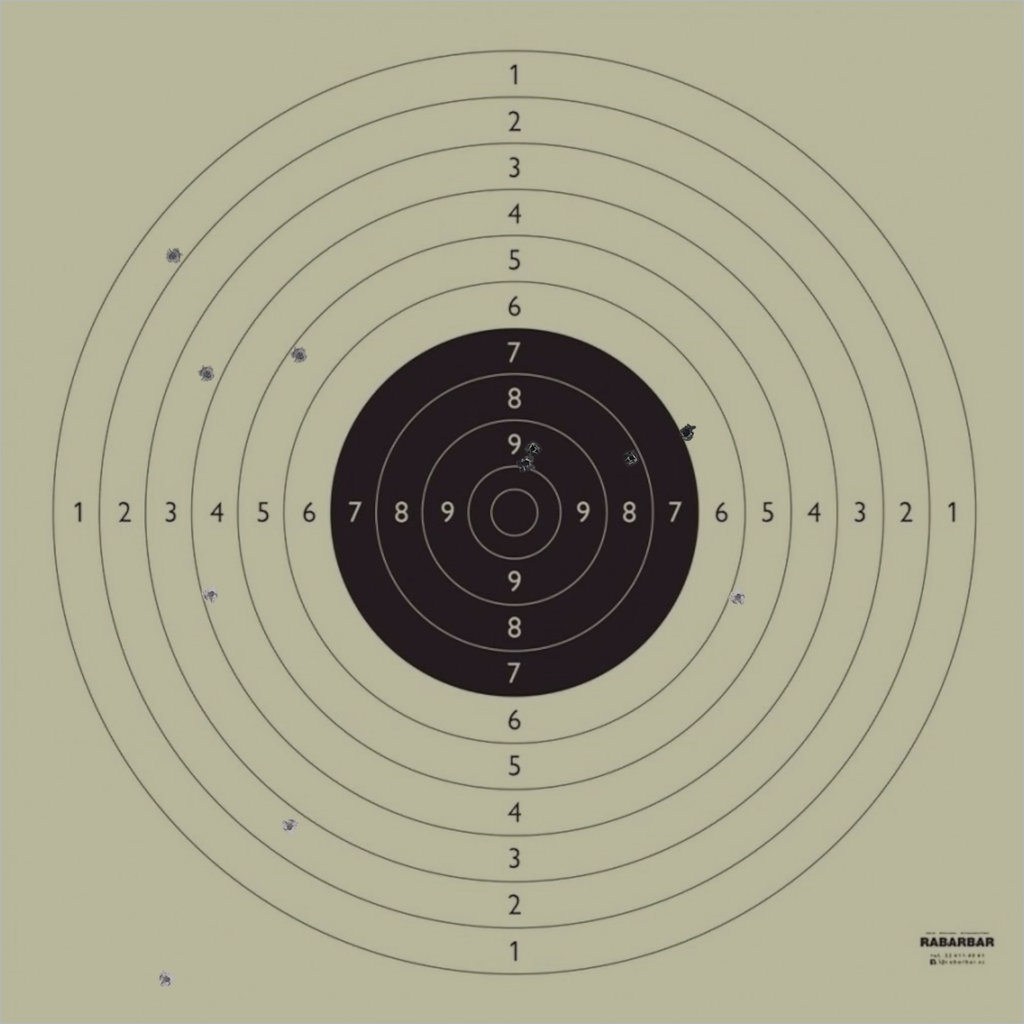0 punktow: (157, 970, 176, 989)
1 punkt: (164, 247, 182, 265)
10 punktow: (516, 454, 535, 473)
2 punkty: (280, 817, 299, 836)
3 punkty: (198, 365, 216, 383)
4 punkty: (202, 585, 220, 604)
5 punktow: (290, 346, 309, 365)
6 punktow: (729, 588, 747, 606)
7 punktow: (678, 423, 696, 442)
8 punktow: (623, 449, 641, 467)
9 punktow: (524, 439, 542, 457)
